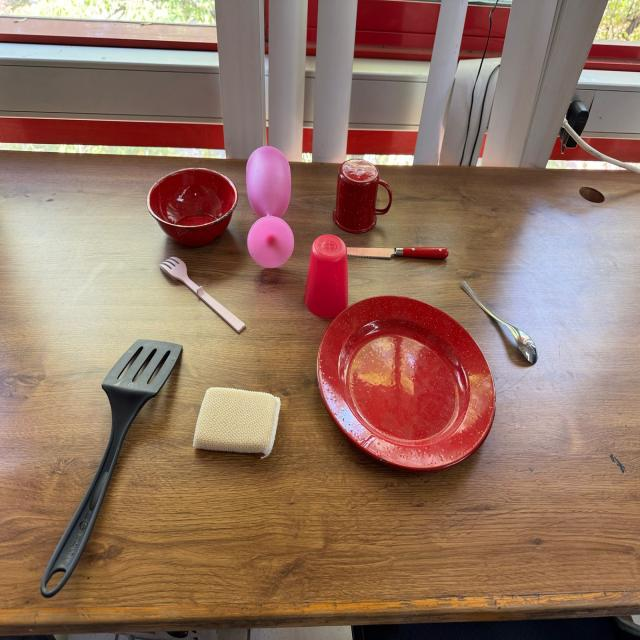cup: (337, 158, 392, 234)
fork: (157, 253, 247, 333)
glass: (304, 235, 354, 318)
knife: (348, 245, 449, 260)
plate: (317, 294, 499, 470)
spatula: (39, 337, 182, 601)
sponge: (192, 386, 282, 459)
spoon: (460, 280, 540, 362)
tazon: (146, 167, 240, 248)
wineglass: (244, 144, 296, 268)
